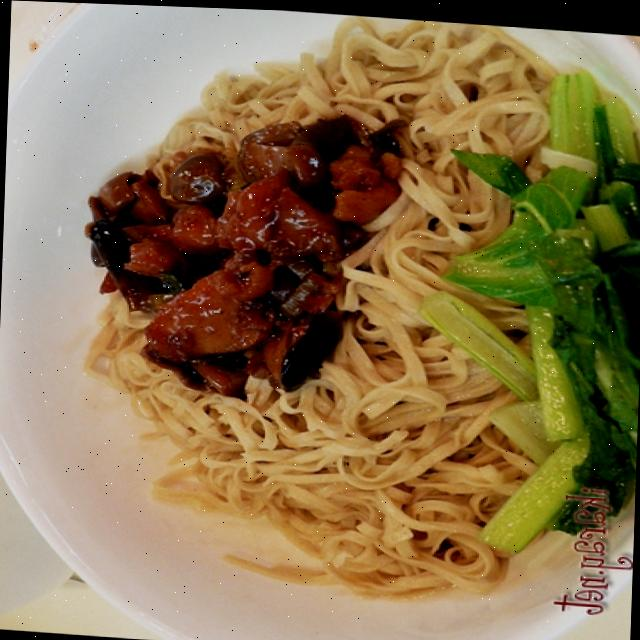面条主食: (19, 1, 623, 640)
